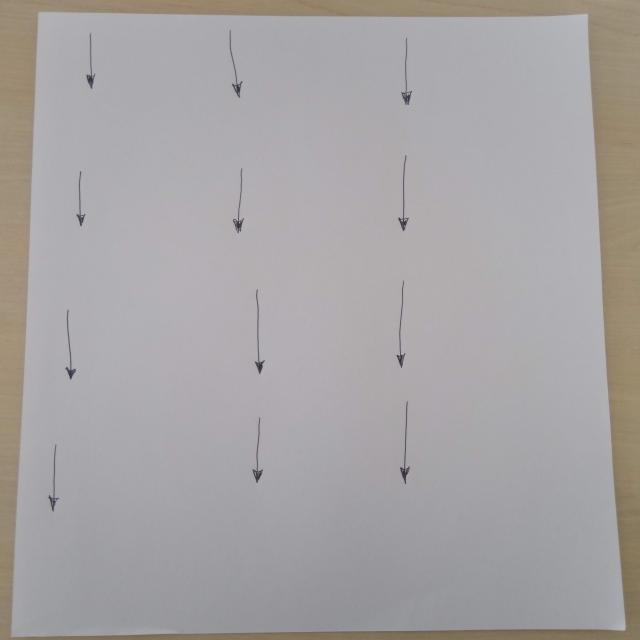arrow_line_down: (384, 393, 422, 495), (241, 280, 278, 382), (385, 275, 423, 374), (52, 298, 86, 386), (388, 148, 419, 238), (241, 408, 274, 492), (37, 438, 71, 518), (225, 162, 257, 237), (222, 24, 250, 103), (396, 33, 420, 115), (68, 162, 95, 234), (82, 28, 103, 96)
